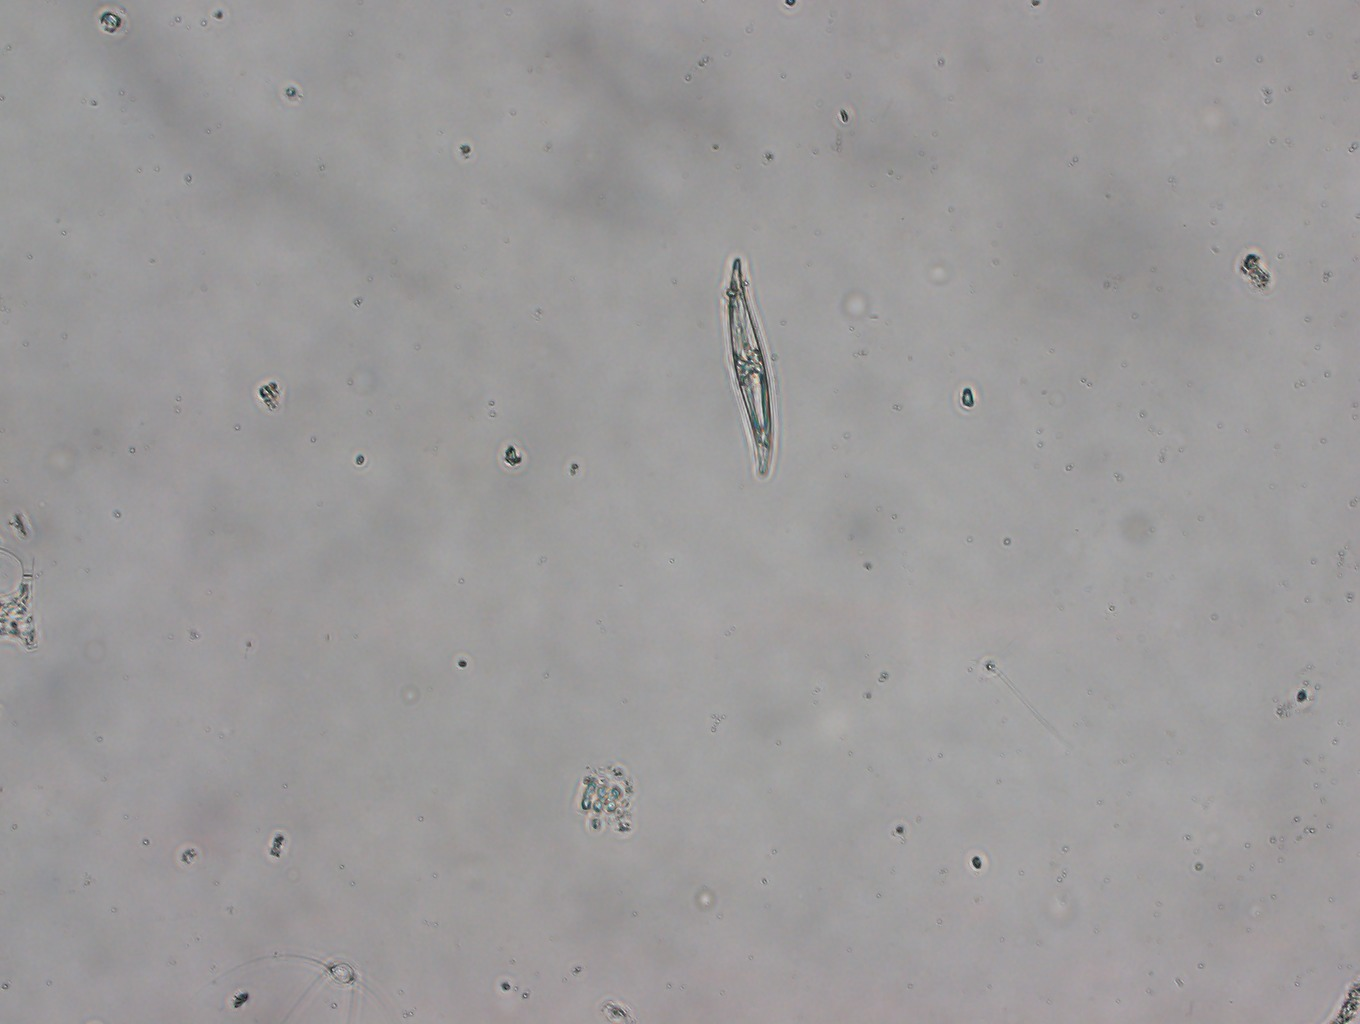pleurosigma pelagicum: (724, 258, 774, 481)
